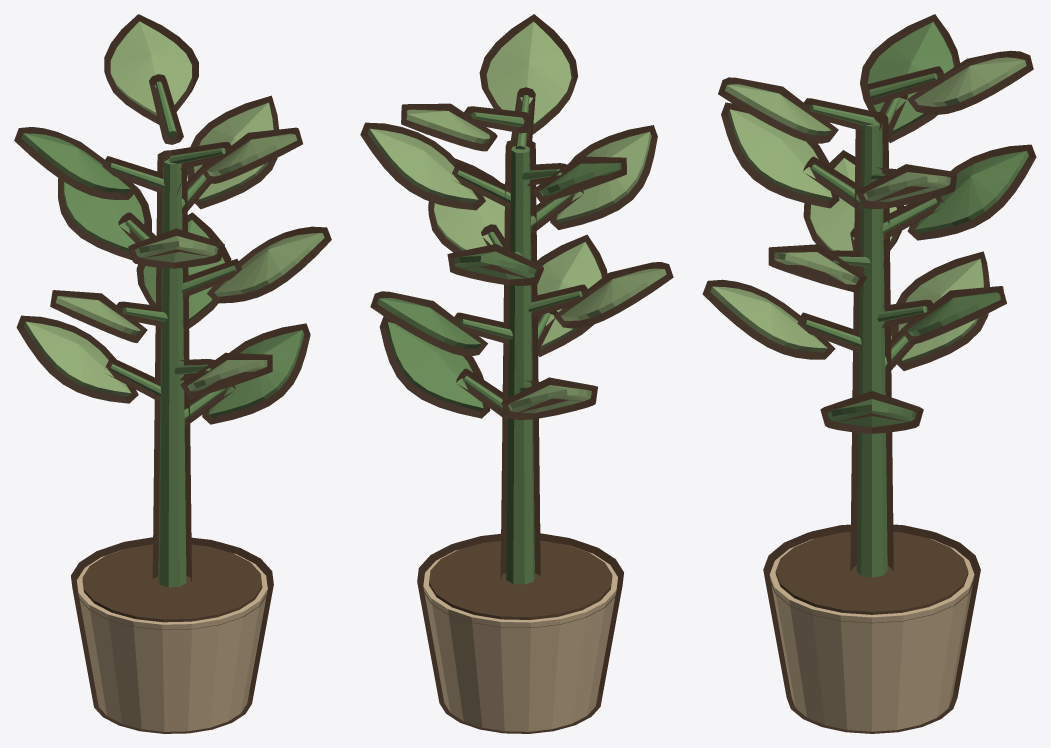
Rendered from ficus-plant.glb.
The picture shows the model from 3 angles, left to right: view 1: azimuth 30°, elevation 25°; view 2: azimuth 150°, elevation 25°; view 3: azimuth 270°, elevation 25°; orthographic projection. The views are drawn at different scales.
Visible parts, largest first — view 1: ficus-plant, ficus-plant-outline; view 2: ficus-plant, ficus-plant-outline; view 3: ficus-plant, ficus-plant-outline.
Part boxes in pixels (bbox=[...]): ficus-plant: bbox=[21, 21, 324, 731]; ficus-plant-outline: bbox=[14, 14, 331, 733]; ficus-plant: bbox=[367, 21, 666, 731]; ficus-plant-outline: bbox=[360, 14, 673, 733]; ficus-plant: bbox=[710, 22, 1028, 731]; ficus-plant-outline: bbox=[702, 14, 1036, 733].
Bounding box in the file's own units: 0.7582 × 1.65 × 0.7494.
